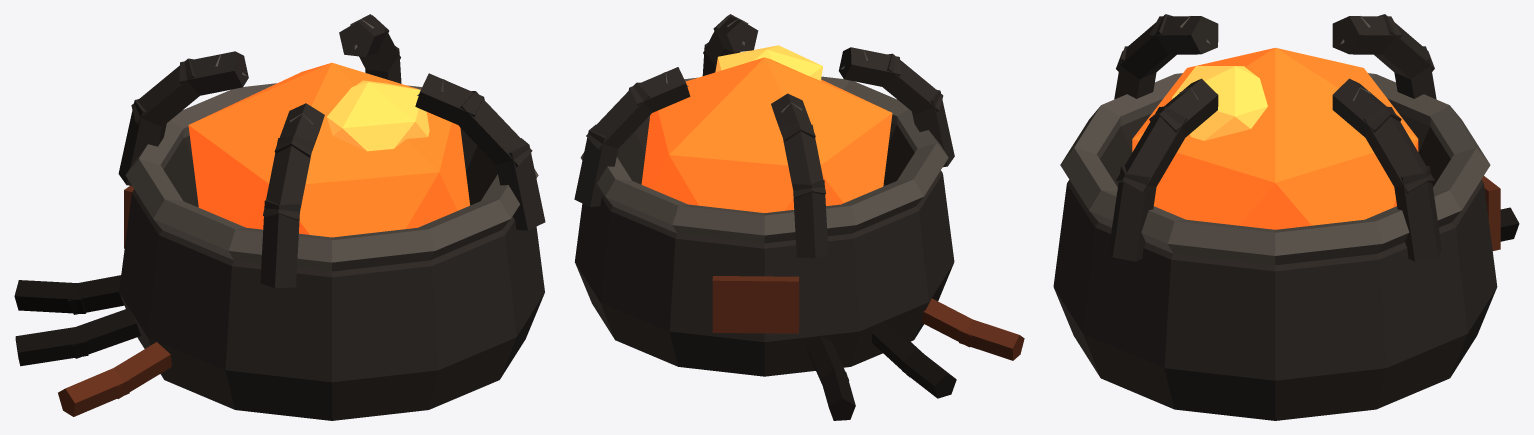
File: queen_eye.glb
3 renders of one model, left to right at view 1: azimuth 30°, elevation 25°; view 2: azimuth 150°, elevation 25°; view 3: azimuth 270°, elevation 25°, orthographic. The views are drawn at different scales.
Visible parts, largest first — view 1: queen_eye; view 2: queen_eye; view 3: queen_eye.
Part boxes in pixels (x1,y1,x2,y2): queen_eye: [14, 14, 545, 420]; queen_eye: [574, 14, 1024, 420]; queen_eye: [1053, 14, 1519, 420].
Bounding box in the file's own units: 0.1649 × 0.095 × 0.1386.
